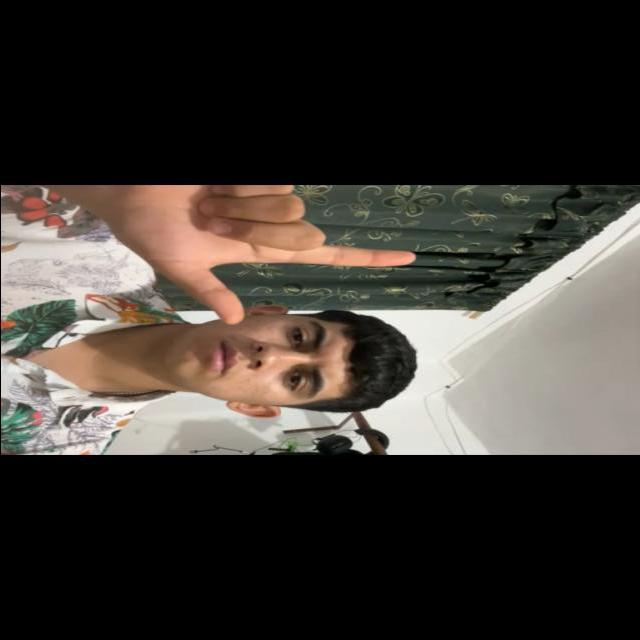L: (122, 186, 424, 322)
